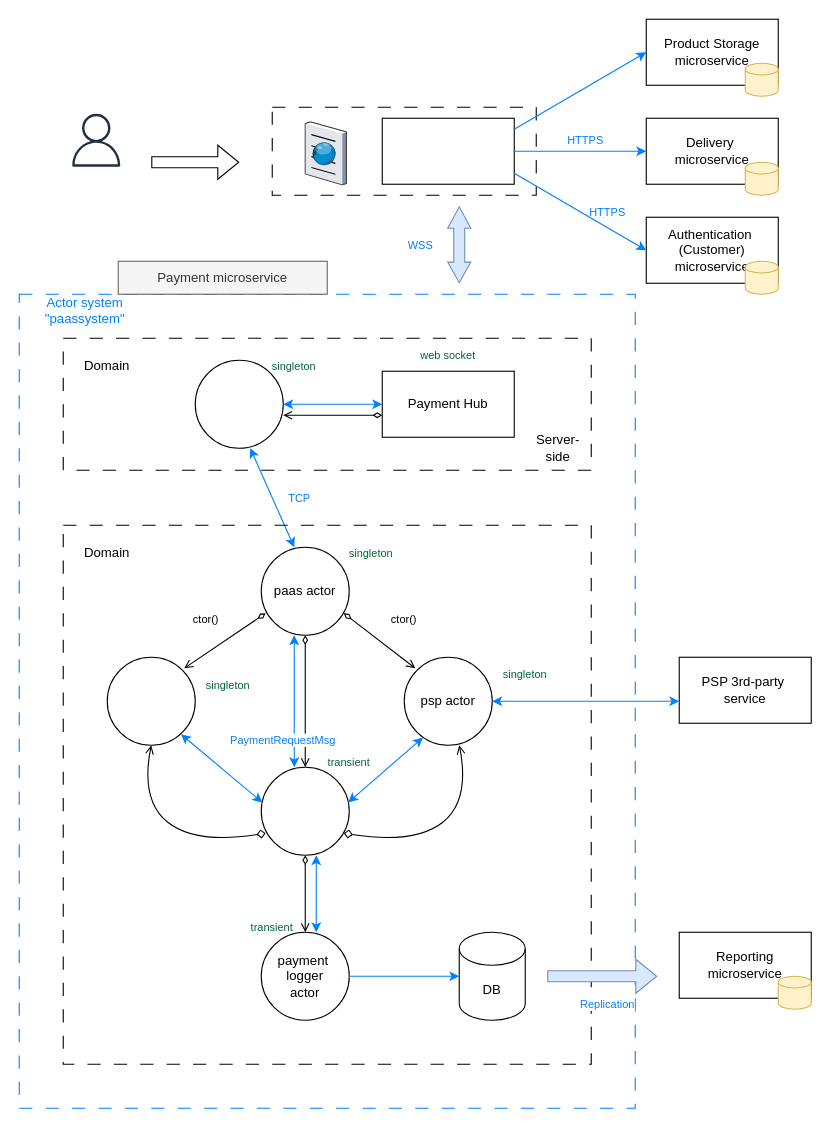
Image size: 831x1128. Some labels were removed from this diagram. Here are the shapes that lost their labels. From the top down, the centre of each, then its label:
the point at 95,139: User
the point at 447,150: Client web pages
the point at 238,403: bridge actor
the point at 150,700: validation actor
the point at 304,810: payment actor
